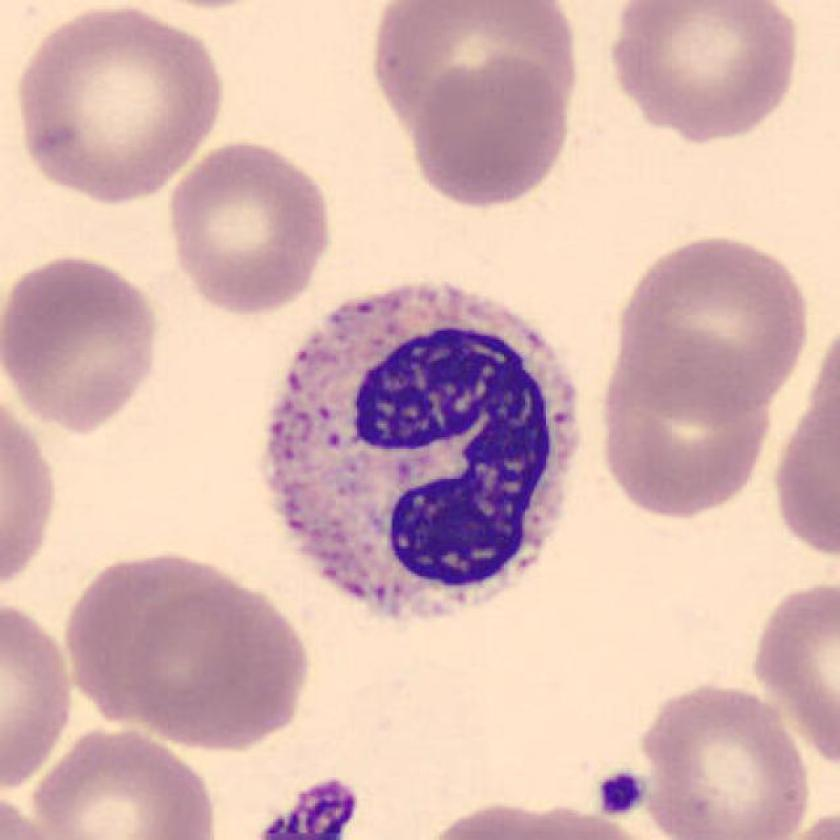neutrophil: (267, 287, 580, 623)
